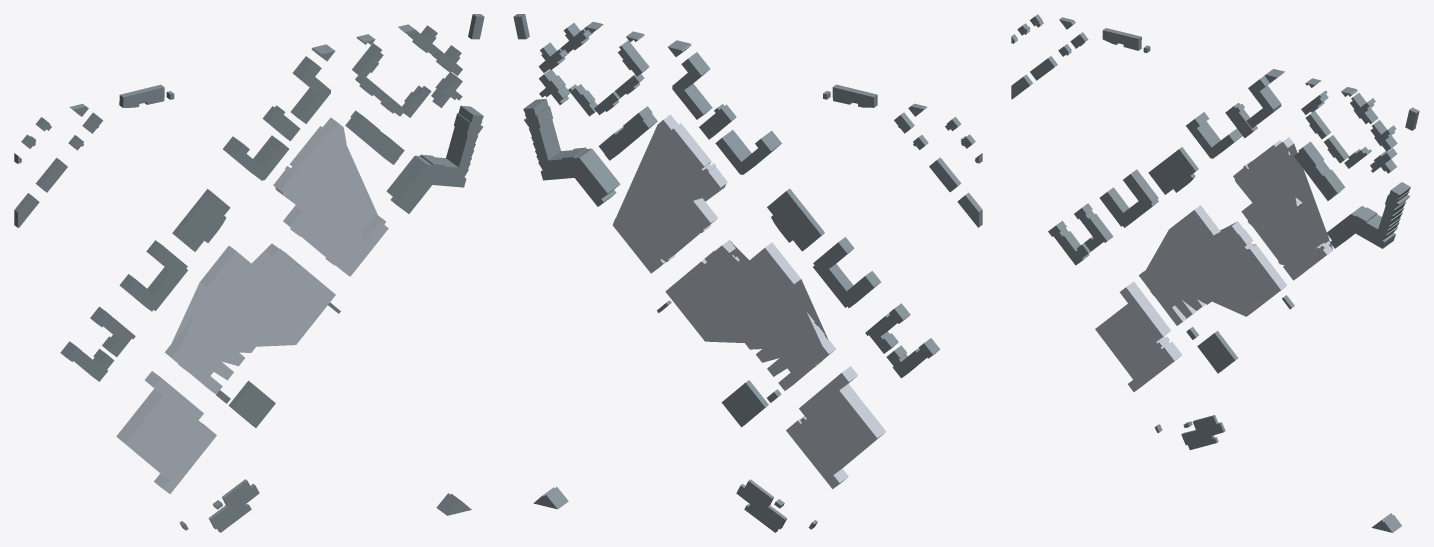
File: kumpula-buildings.obj
3 renders of one model, left to right at view 1: azimuth 30°, elevation 25°; view 2: azimuth 150°, elevation 25°; view 3: azimuth 330°, elevation 25°, orthographic. The views are drawn at different scales.
Visible parts, largest first — view 1: Rakennukset_alue_rekisteritiedot-78521-0, Rakennukset_alue_rekisteritiedot-33270-0, Rakennukset_alue_rekisteritiedot-33188-0, Rakennukset_alue_rekisteritiedot-72987-0, Rakennukset_alue_rekisteritiedot-33940-0, Rakennukset_alue_rekisteritiedot-33857-0, Rakennukset_alue_rekisteritiedot-36104-0, Rakennukset_alue_rekisteritiedot-35635-0, Rakennukset_alue_rekisteritiedot-74578-0, Rakennukset_alue_rekisteritiedot-35321-0, Rakennukset_alue_rekisteritiedot-79951-0, Rakennukset_alue_rekisteritiedot-36723-0 (+5 smaller); view 2: Rakennukset_alue_rekisteritiedot-78521-0, Rakennukset_alue_rekisteritiedot-33270-0, Rakennukset_alue_rekisteritiedot-33188-0, Rakennukset_alue_rekisteritiedot-72987-0, Rakennukset_alue_rekisteritiedot-33940-0, Rakennukset_alue_rekisteritiedot-33857-0, Rakennukset_alue_rekisteritiedot-36104-0, Rakennukset_alue_rekisteritiedot-35635-0, Rakennukset_alue_rekisteritiedot-74578-0, Rakennukset_alue_rekisteritiedot-35321-0, Rakennukset_alue_rekisteritiedot-79951-0, Rakennukset_alue_rekisteritiedot-36723-0 (+5 smaller); view 3: Rakennukset_alue_rekisteritiedot-78521-0, Rakennukset_alue_rekisteritiedot-33270-0, Rakennukset_alue_rekisteritiedot-33188-0, Rakennukset_alue_rekisteritiedot-72987-0, Rakennukset_alue_rekisteritiedot-33940-0, Rakennukset_alue_rekisteritiedot-33857-0, Rakennukset_alue_rekisteritiedot-35321-0, Rakennukset_alue_rekisteritiedot-36104-0, Rakennukset_alue_rekisteritiedot-74578-0, Rakennukset_alue_rekisteritiedot-79951-0, Rakennukset_alue_rekisteritiedot-35635-0, Rakennukset_alue_rekisteritiedot-36723-0 (+5 smaller).
Boxes of the visible parts, x1,y1,x2,y2 form: Rakennukset_alue_rekisteritiedot-78521-0: (164, 243, 335, 394); Rakennukset_alue_rekisteritiedot-33270-0: (273, 117, 388, 276); Rakennukset_alue_rekisteritiedot-33188-0: (116, 371, 216, 493); Rakennukset_alue_rekisteritiedot-72987-0: (386, 105, 483, 213); Rakennukset_alue_rekisteritiedot-33940-0: (119, 240, 187, 311); Rakennukset_alue_rekisteritiedot-33857-0: (172, 189, 230, 251); Rakennukset_alue_rekisteritiedot-36104-0: (223, 135, 288, 180); Rakennukset_alue_rekisteritiedot-35635-0: (290, 56, 330, 123); Rakennukset_alue_rekisteritiedot-74578-0: (208, 479, 259, 532); Rakennukset_alue_rekisteritiedot-35321-0: (345, 110, 404, 164); Rakennukset_alue_rekisteritiedot-79951-0: (228, 380, 275, 427); Rakennukset_alue_rekisteritiedot-36723-0: (90, 306, 135, 356); Rakennukset_alue_rekisteritiedot-78521-0: (665, 240, 835, 390); Rakennukset_alue_rekisteritiedot-33270-0: (612, 114, 727, 273); Rakennukset_alue_rekisteritiedot-33188-0: (786, 366, 886, 489); Rakennukset_alue_rekisteritiedot-72987-0: (523, 99, 620, 206); Rakennukset_alue_rekisteritiedot-33940-0: (813, 237, 880, 307); Rakennukset_alue_rekisteritiedot-33857-0: (767, 188, 824, 251); Rakennukset_alue_rekisteritiedot-36104-0: (715, 130, 781, 174); Rakennukset_alue_rekisteritiedot-35635-0: (672, 52, 712, 119); Rakennukset_alue_rekisteritiedot-74578-0: (736, 479, 787, 532); Rakennukset_alue_rekisteritiedot-35321-0: (598, 106, 657, 160); Rakennukset_alue_rekisteritiedot-79951-0: (721, 380, 768, 427); Rakennukset_alue_rekisteritiedot-36723-0: (865, 303, 910, 353); Rakennukset_alue_rekisteritiedot-78521-0: (1139, 205, 1287, 325); Rakennukset_alue_rekisteritiedot-33270-0: (1233, 137, 1332, 280); Rakennukset_alue_rekisteritiedot-33188-0: (1095, 281, 1182, 391); Rakennukset_alue_rekisteritiedot-72987-0: (1326, 182, 1410, 248); Rakennukset_alue_rekisteritiedot-33940-0: (1099, 169, 1158, 227); Rakennukset_alue_rekisteritiedot-33857-0: (1148, 147, 1198, 194); Rakennukset_alue_rekisteritiedot-35321-0: (1294, 141, 1345, 200); Rakennukset_alue_rekisteritiedot-36104-0: (1186, 112, 1242, 158); Rakennukset_alue_rekisteritiedot-74578-0: (1181, 415, 1225, 449); Rakennukset_alue_rekisteritiedot-79951-0: (1197, 331, 1238, 373); Rakennukset_alue_rekisteritiedot-35635-0: (1246, 76, 1281, 128); Rakennukset_alue_rekisteritiedot-36723-0: (1074, 203, 1113, 251).
Bounding box in the file's own units: 498 × 500 × 23.8.
